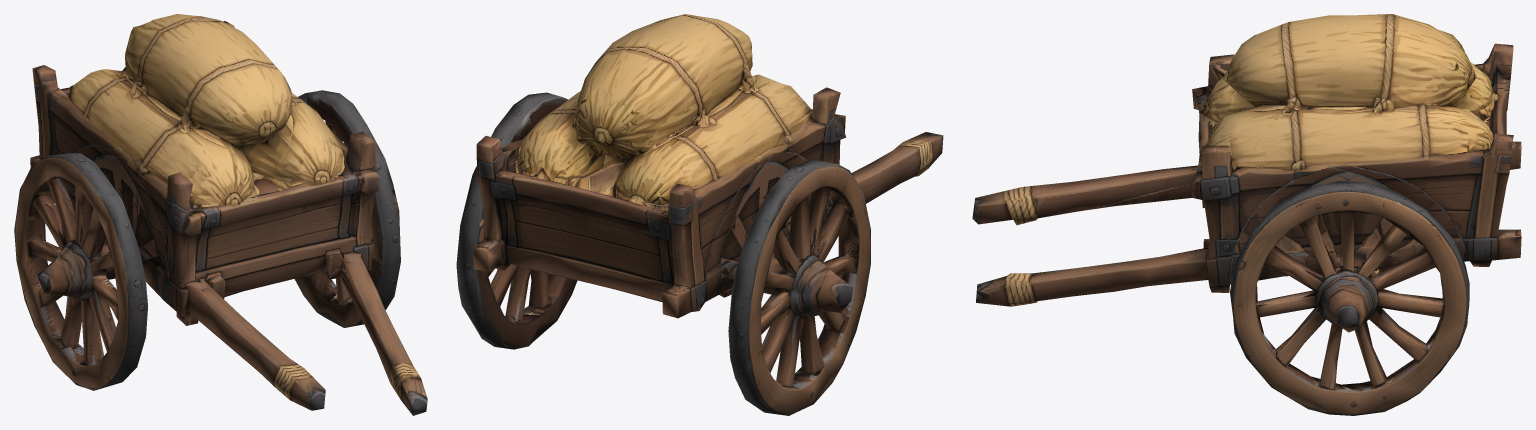
Rendered from cart.glb.
3 views of the same model, side by side, from view 1: azimuth 30°, elevation 25°; view 2: azimuth 150°, elevation 25°; view 3: azimuth 270°, elevation 25° (orthographic). The views are drawn at different scales.
Parts seen in each view (by area): view 1: texture_mapping; view 2: texture_mapping; view 3: texture_mapping.
Part boxes in pixels (x1,y1,x2,y2): texture_mapping: (14, 14, 427, 415); texture_mapping: (456, 14, 943, 415); texture_mapping: (972, 14, 1521, 415).
Size of the model in its own units: 0.745 by 0.6521 by 0.996.
Materials: 1 (1 with a texture image).
